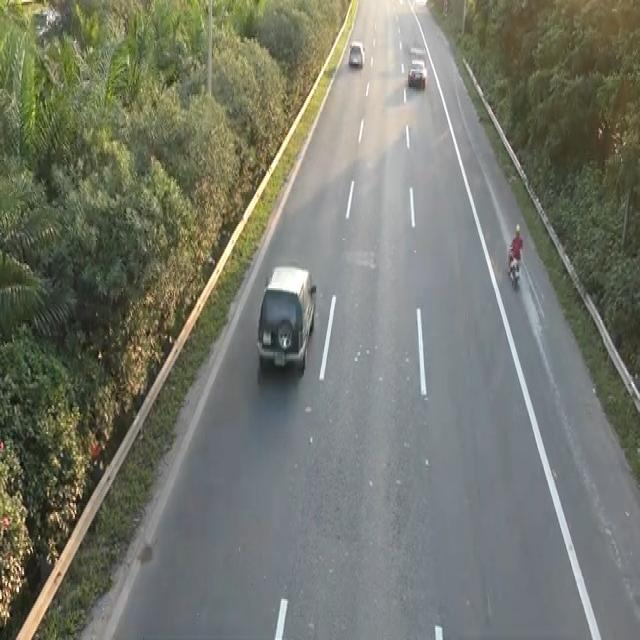car: (254, 260, 318, 375)
minibus: (505, 244, 522, 288)
